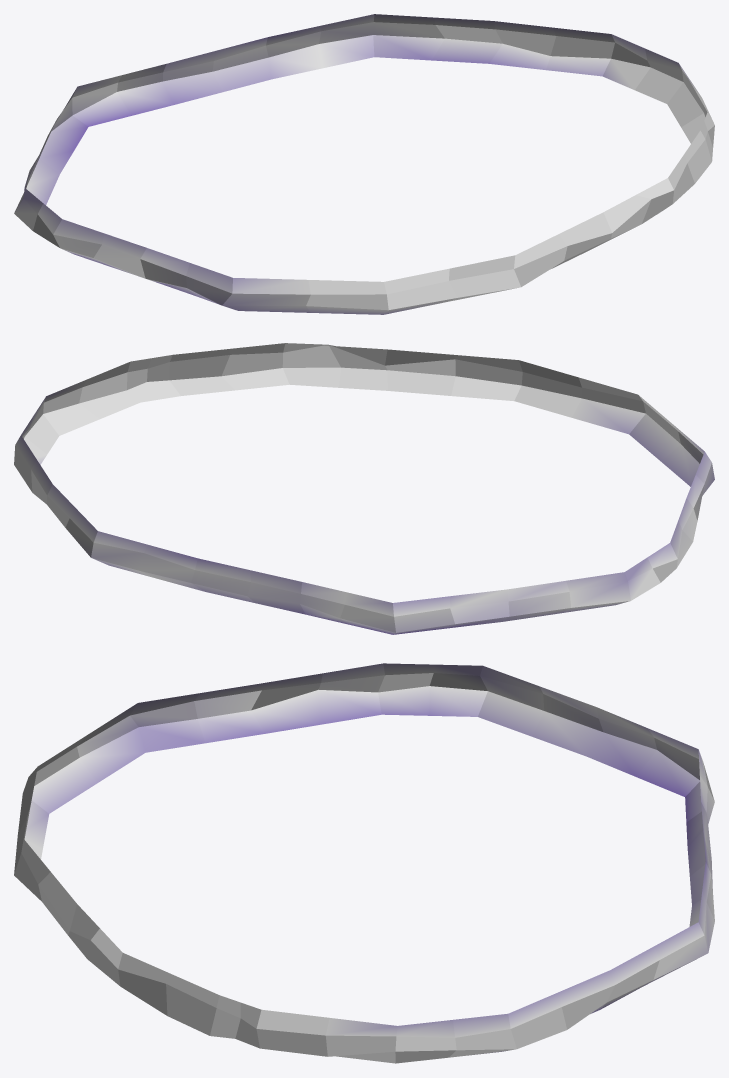
Rendered from PlateauBrimTrim_01.fbx.
3 renders of one model, top to bottom at view 1: azimuth 30°, elevation 25°; view 2: azimuth 150°, elevation 25°; view 3: azimuth 270°, elevation 25°, orthographic. The views are drawn at different scales.
Parts seen in each view (by area): view 1: Plane.023; view 2: Plane.023; view 3: Plane.023.
Part boxes in pixels (left/top/right/bottom): Plane.023: left=14, top=14, right=714, bottom=314; Plane.023: left=14, top=343, right=714, bottom=634; Plane.023: left=14, top=663, right=714, bottom=1063.
Bounding box in the file's own units: 4841 × 273 × 3869.
